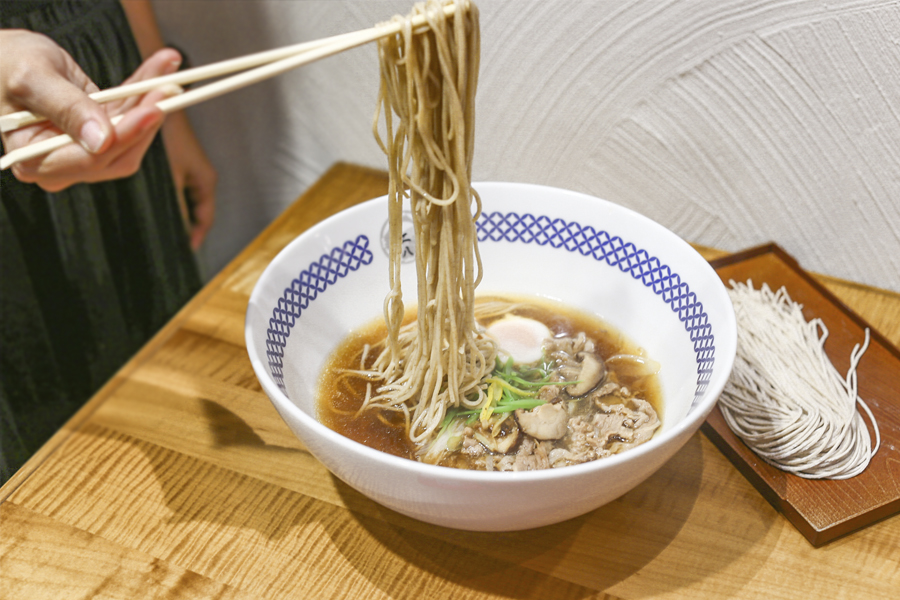Soba: (366, 12, 503, 425), (716, 278, 884, 491)
